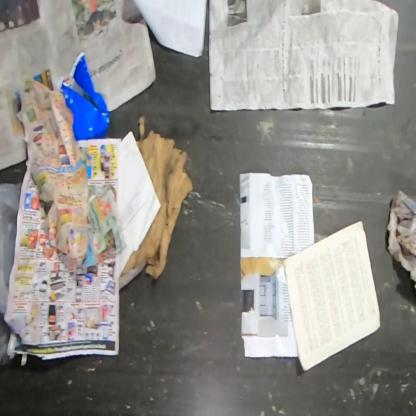cardboard: (120, 115, 194, 279)
rigid_plastic: (57, 51, 112, 142), (0, 181, 22, 365)
